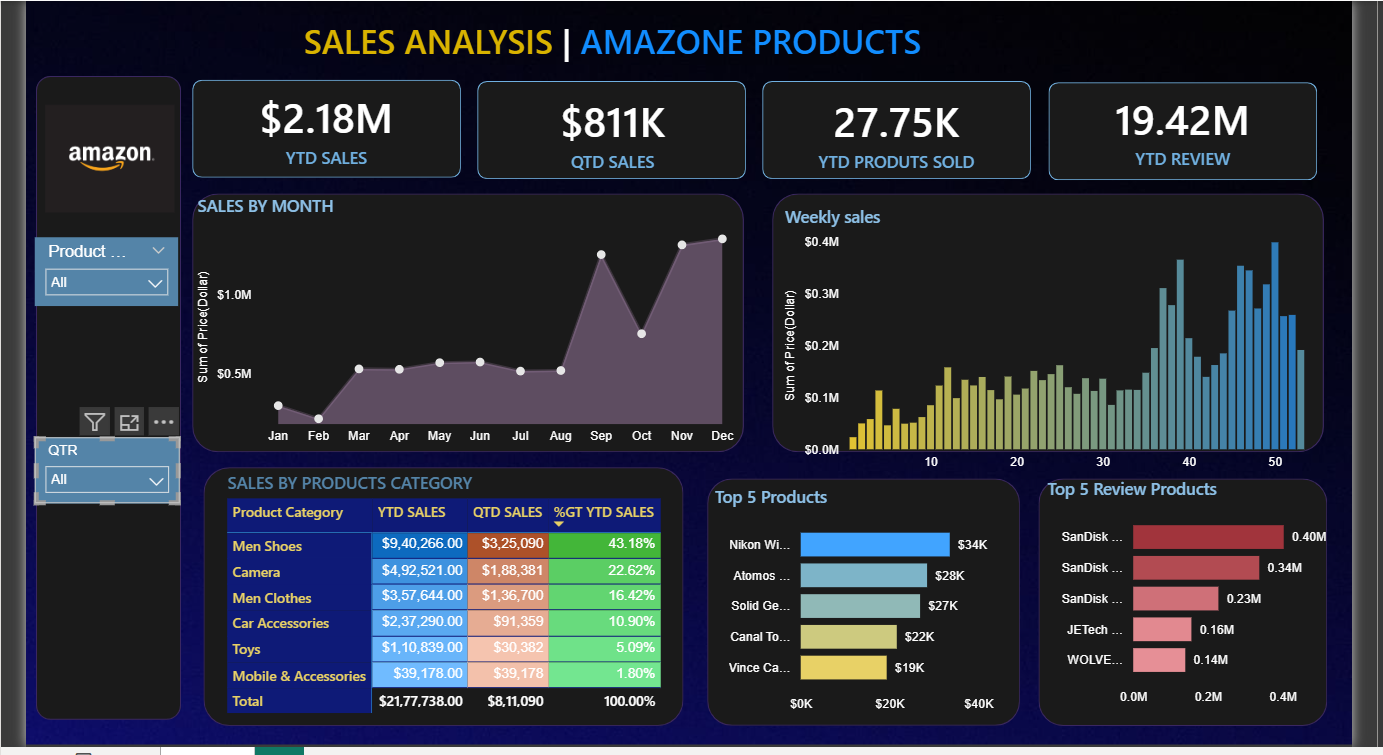

Layout of this report page (visuals, bound fields, positions):
{"tool":"powerbi","page":{"name":"Page 1","canvas":[1280,720],"ordinal":0},"visuals":[{"type":"shape","box":[160.5,75.5,259.3,94.7],"z":0,"group":"g1"},{"type":"shape","box":[435.9,76.9,259.3,94.7],"z":1000,"group":"g1"},{"type":"textbox","box":[263.5,12.3,742.4,52.1],"z":1000},{"type":"shape","box":[711.2,76.9,259.3,94.7],"z":2000,"group":"g1"},{"type":"shape","box":[10,72.9,140,621.4],"z":2000},{"type":"shape","box":[986.6,78.2,259.3,94.7],"z":3000,"group":"g1"},{"type":"group","id":"g1","title":"Group 1","box":[160.5,75.5,1085.4,97.4],"z":3000},{"type":"card","fields":{"Values":["Amazon_Data.YTD SALES"]},"box":[160.5,75.5,259.3,93.3],"z":4000,"group":"g1"},{"type":"shape","box":[160.5,185.2,532.4,249.7],"z":4000},{"type":"card","fields":{"Values":["Amazon_Data.QTD SALES"]},"box":[436.3,79.6,259.3,93.3],"z":5000,"group":"g1"},{"type":"areaChart","title":"SALES BY MONTH","fields":{"Category":["Date table.MONTH"],"Y":["Sum(Amazon_Data.Price(Dollar))"]},"box":[160.5,185.2,532.4,249.7],"z":5000},{"type":"card","fields":{"Values":["Amazon_Data.YTD PRODUTS SOLD"]},"box":[710.8,79.6,259.3,93.3],"z":6000,"group":"g1"},{"type":"shape","box":[720.4,185.2,532.4,249.7],"z":6000},{"type":"card","fields":{"Values":["Amazon_Data.YTD REVIEW"]},"box":[986.6,76.9,259.3,93.3],"z":7000,"group":"g1"},{"type":"columnChart","title":"Weekly sales","fields":{"Category":["Date table.week number"],"Y":["Sum(Amazon_Data.Price(Dollar))"]},"box":[727.5,196.6,532,264.2],"z":7000},{"type":"shape","box":[171.3,450,463.3,249.7],"z":8000},{"type":"pivotTable","title":"SALES BY PRODUCTS CATEGORY","fields":{"Rows":["Amazon_Data.Product Category"],"Values":["Amazon_Data.YTD SALES1","Amazon_Data.QTD SALES","Amazon_Data.YTD SALES"]},"box":[189.4,453.6,428.3,246.1],"z":9000},{"type":"shape","box":[657.3,461.1,301.9,238.8],"z":10000},{"type":"shape","box":[977.2,460.9,278.7,238.9],"z":11000},{"type":"clusteredBarChart","title":"Top 5 Products","fields":{"Category":["Amazon_Data.Product Description"],"Y":["Amazon_Data.YTD SALES"]},"box":[660,466.6,299.1,227.8],"z":12000},{"type":"clusteredBarChart","title":"Top 5 Review Products","fields":{"Category":["Amazon_Data.Product Description"],"Y":["Amazon_Data.YTD REVIEW"]},"box":[981.1,460,298.9,227.8],"z":13000},{"type":"slicer","fields":{"Values":["Amazon_Data.Product Category"]},"box":[11.5,367.9,139.7,66.7],"z":14000},{"type":"slicer","fields":{"Values":["Date table.QTR"]},"box":[9,466.7,139.7,64.1],"z":15000},{"type":"image","box":[11.5,94.9,137.2,114.1],"z":16000}]}

Visuals, with their boxes on the page's 1280x720 design canvas (x1, y1, x2, y2). These are canvas units, not pixel positions in the 1383x755 screenshot, which may show the page scaled, cropped or inside an application window:
shape: <box>160,76,420,170</box>
shape: <box>436,77,695,172</box>
textbox: <box>264,12,1006,64</box>
shape: <box>711,77,970,172</box>
shape: <box>10,73,150,694</box>
shape: <box>987,78,1246,173</box>
"Group 1" group: <box>160,76,1246,173</box>
card - Amazon_Data.YTD SALES: <box>160,76,420,169</box>
shape: <box>160,185,693,435</box>
card - Amazon_Data.QTD SALES: <box>436,80,696,173</box>
"SALES BY MONTH" areaChart: <box>160,185,693,435</box>
card - Amazon_Data.YTD PRODUTS SOLD: <box>711,80,970,173</box>
shape: <box>720,185,1253,435</box>
card - Amazon_Data.YTD REVIEW: <box>987,77,1246,170</box>
"Weekly sales" columnChart: <box>728,197,1260,461</box>
shape: <box>171,450,635,700</box>
"SALES BY PRODUCTS CATEGORY" pivotTable: <box>189,454,618,700</box>
shape: <box>657,461,959,700</box>
shape: <box>977,461,1256,700</box>
"Top 5 Products" clusteredBarChart: <box>660,467,959,694</box>
"Top 5 Review Products" clusteredBarChart: <box>981,460,1280,688</box>
slicer - Amazon_Data.Product Category: <box>12,368,151,435</box>
slicer - Date table.QTR: <box>9,467,149,531</box>
image: <box>12,95,149,209</box>
